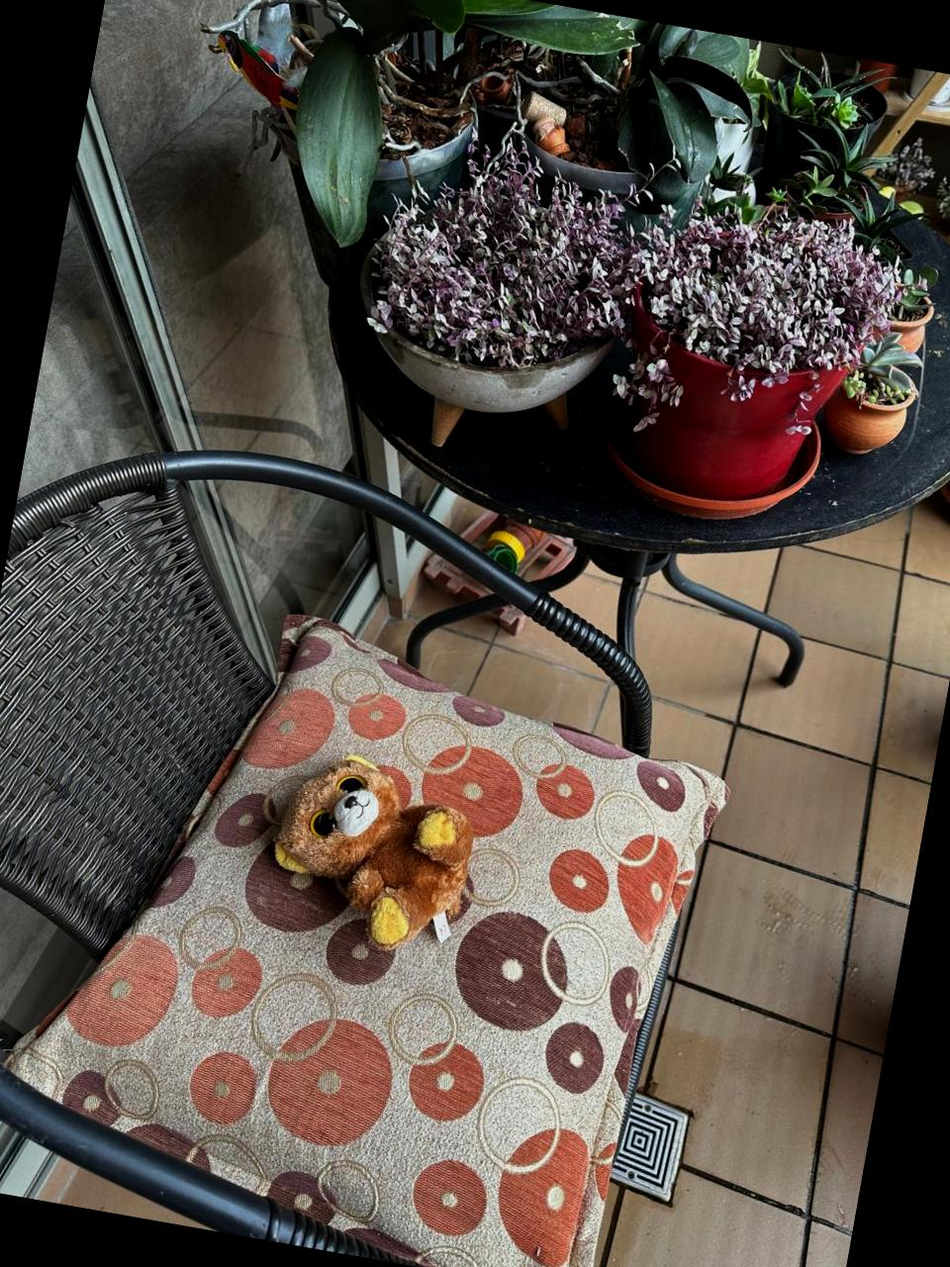peluche_sebastian: (252, 740, 485, 966)
